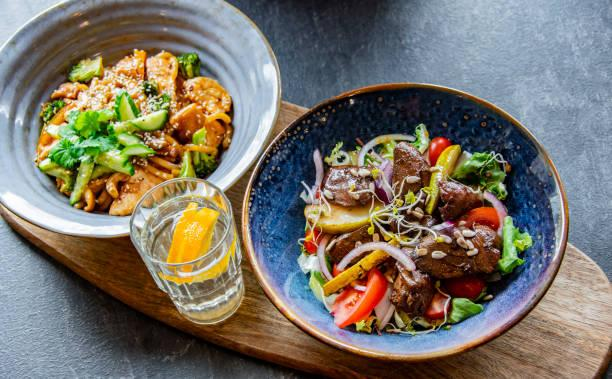Braised Crucian Carp: (246, 82, 562, 360), (3, 1, 281, 240)
